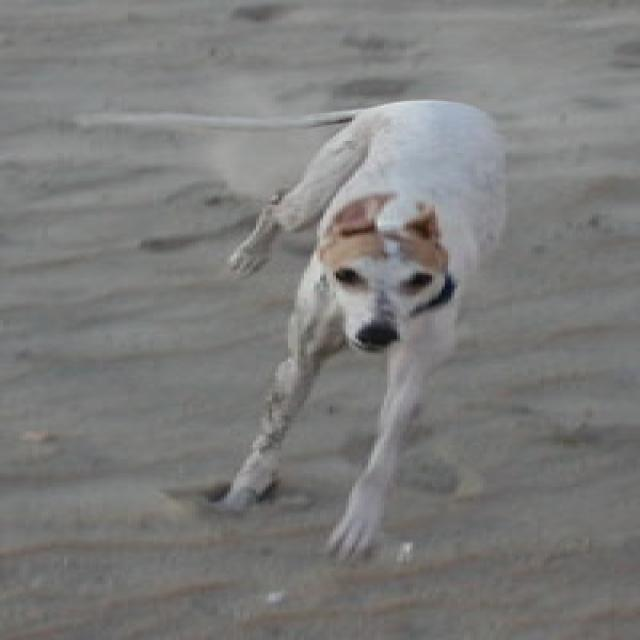dog: (70, 96, 506, 568)
